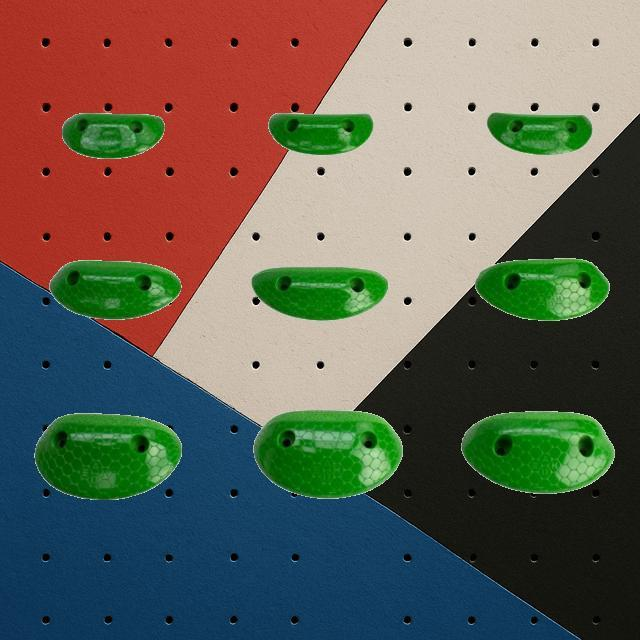Crimp: (253, 409, 402, 498), (34, 412, 182, 500), (460, 410, 614, 494), (474, 257, 610, 321), (48, 259, 180, 319), (250, 264, 388, 320), (61, 112, 165, 158), (267, 111, 373, 155), (486, 111, 592, 155)
